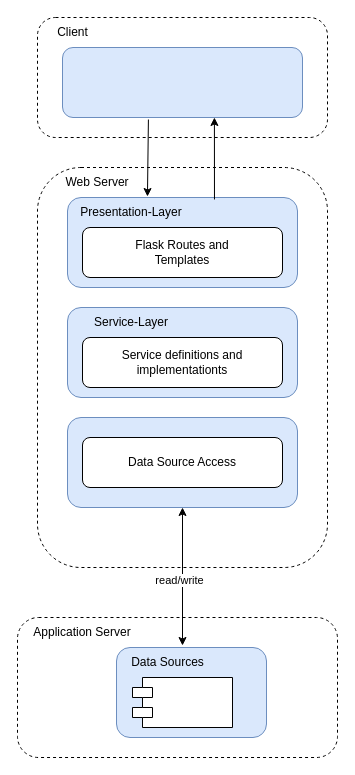
Image size: 355x775. Some labels were removed from this diagram. The shapes that lost their labels are listed below. From the top down, each one's centre as x and y in pixels, then its label:
At pixel 182 82: "Web Browser (XHTML, CSS, JavaScript)".
At pixel 182 702: "CSV File System".
